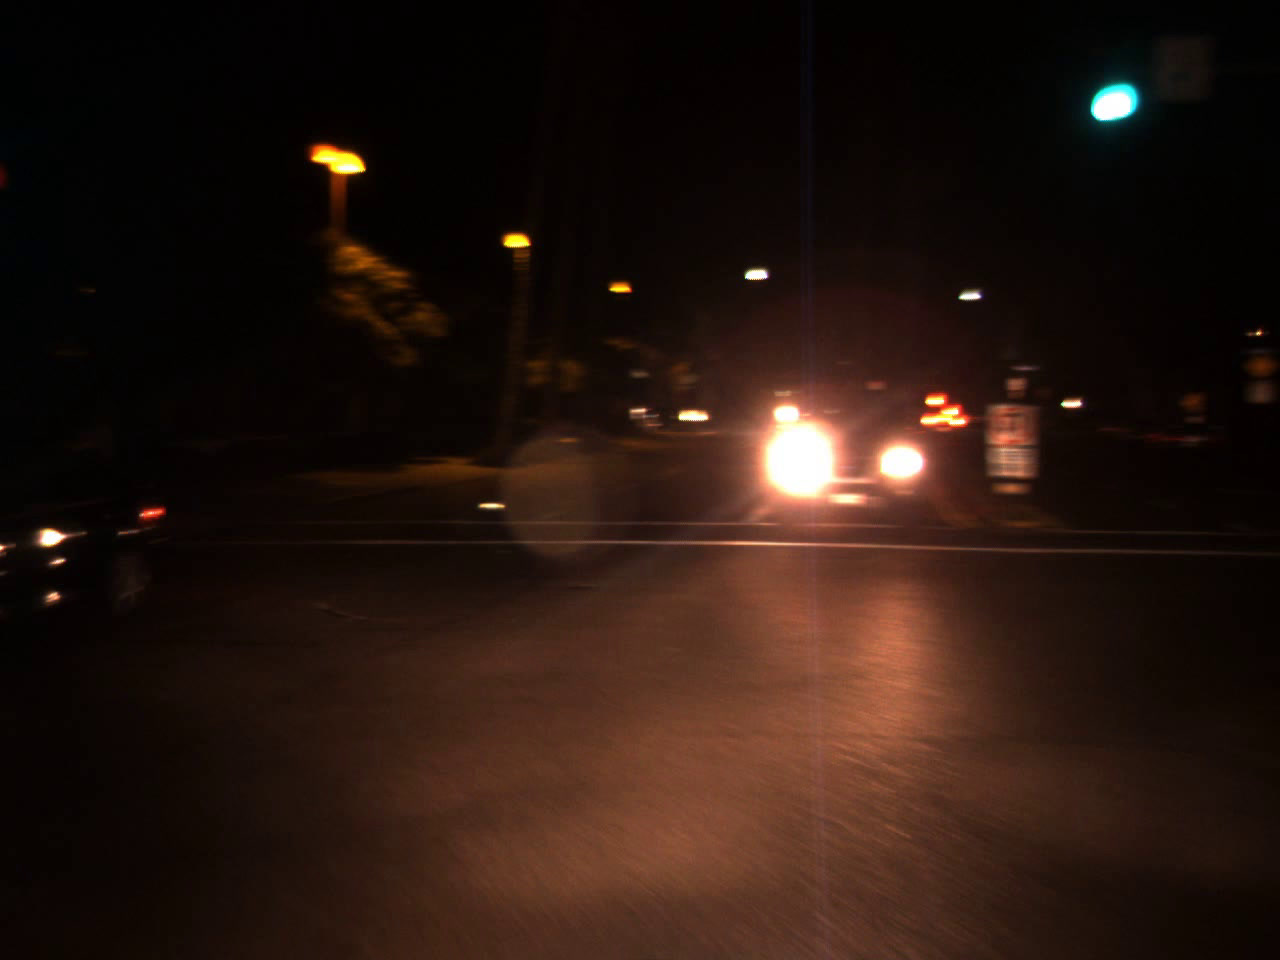go: (1081, 54, 1133, 132)
